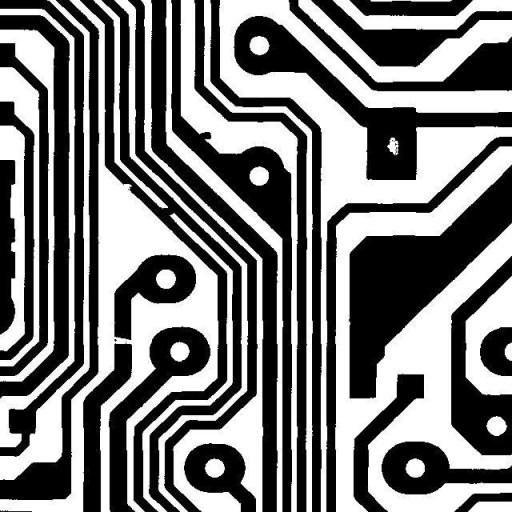mousebite: (114, 176, 140, 197)
open: (103, 329, 139, 351)
pin-hole: (379, 130, 406, 162)
short: (153, 198, 182, 222)
spur: (188, 124, 218, 147)
